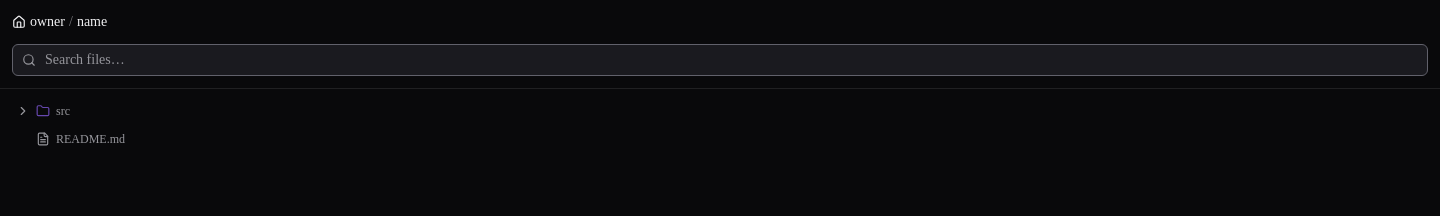
FileExplorer — search › finds a file nested inside collapsed folders
This screenshot has width=1440, height=216.
Check: the text "queries.ts" is not shown
Type "queries" into the search field labelled "Search files…" at (720,60), box [12,44,1428,76]
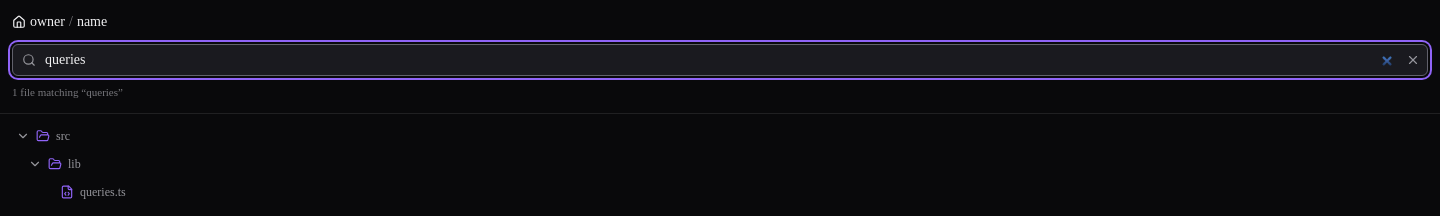
Check: the text "queries.ts" is shown, box [80,184,126,200]
